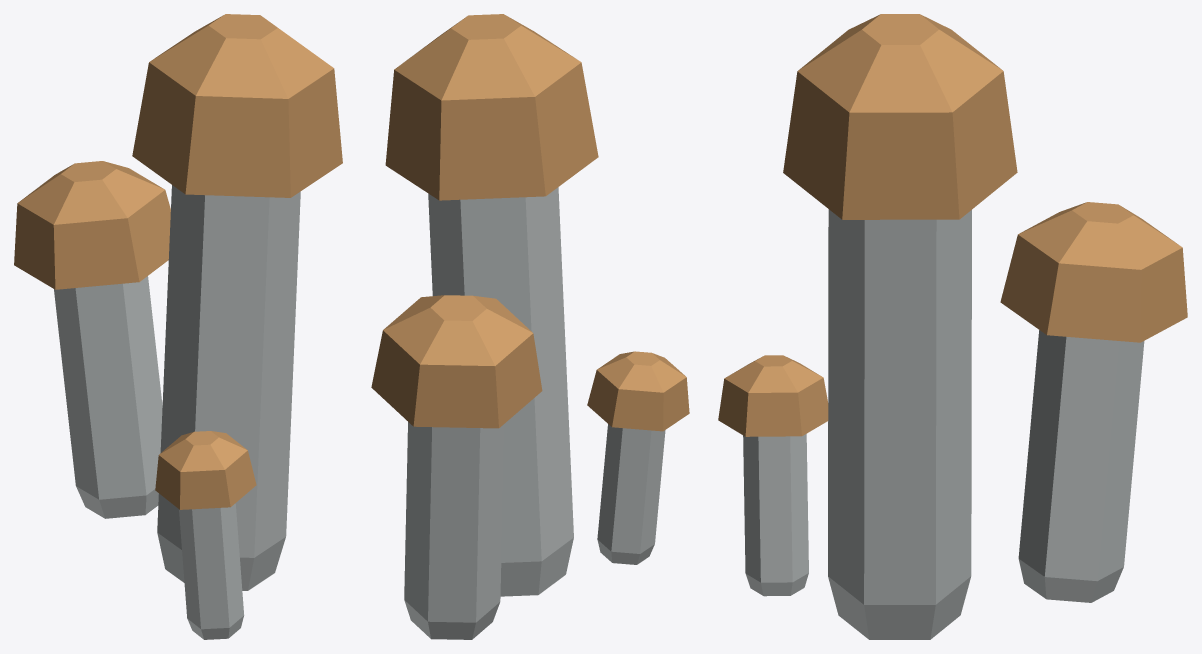
Rendered from seta_2.fbx.
3 renders of one model, left to right at view 1: azimuth 30°, elevation 25°; view 2: azimuth 150°, elevation 25°; view 3: azimuth 270°, elevation 25°, orthographic. The views are drawn at different scales.
Visible parts, largest first — view 1: boletus; view 2: boletus; view 3: boletus.
Part boxes in pixels (x1=…): boletus: x1=14, y1=14, x2=342, y2=639; boletus: x1=371, y1=14, x2=689, y2=639; boletus: x1=718, y1=14, x2=1187, y2=639.
Bounding box in the file's own units: 11.83 × 29.97 × 21.04.
